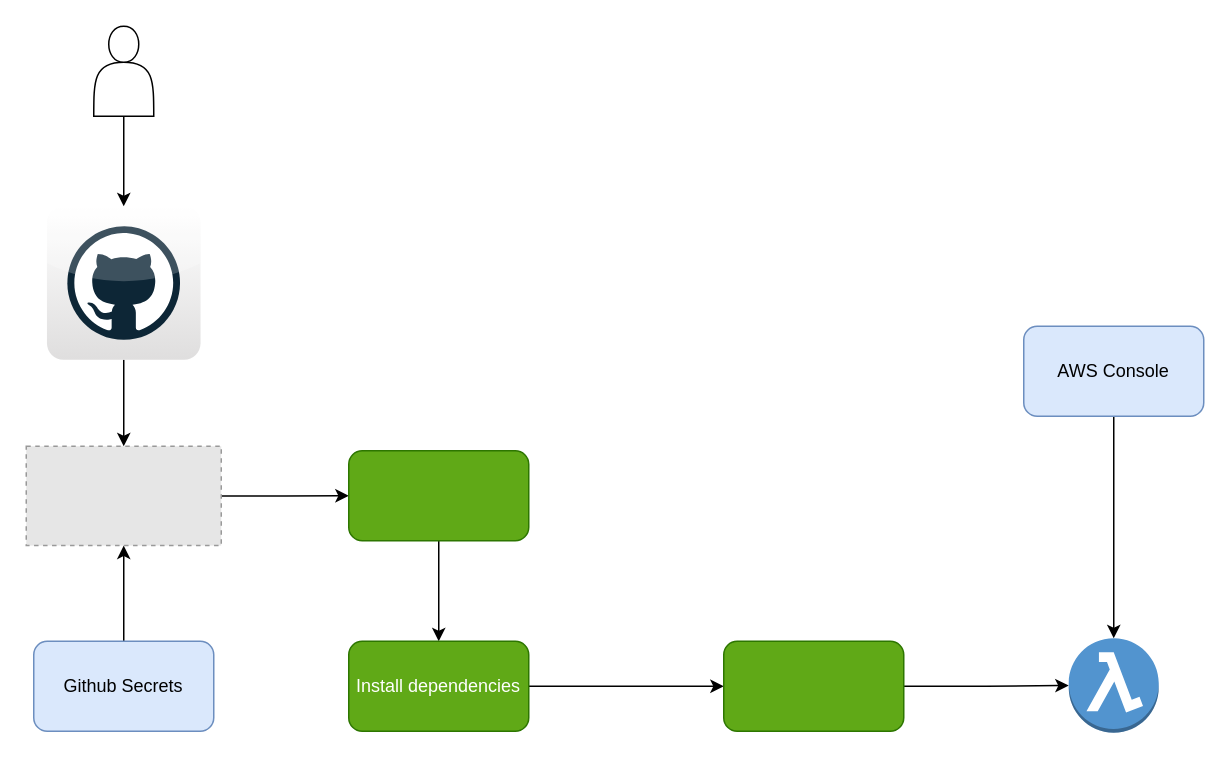
The diagram is 1230 pixels wide and 759 high, and some of its shapes have lost their labels. Grey dashed boxes stand in for pictures. Here are the shapes that lost their labels. From the top down, the box of each, then its label:
(347, 449, 529, 541): Runner
(722, 640, 904, 731): Package Lambda
